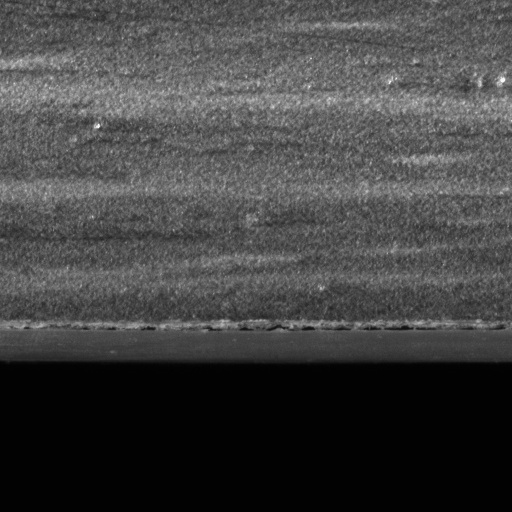jiaofeng: (204, 318, 453, 345)
